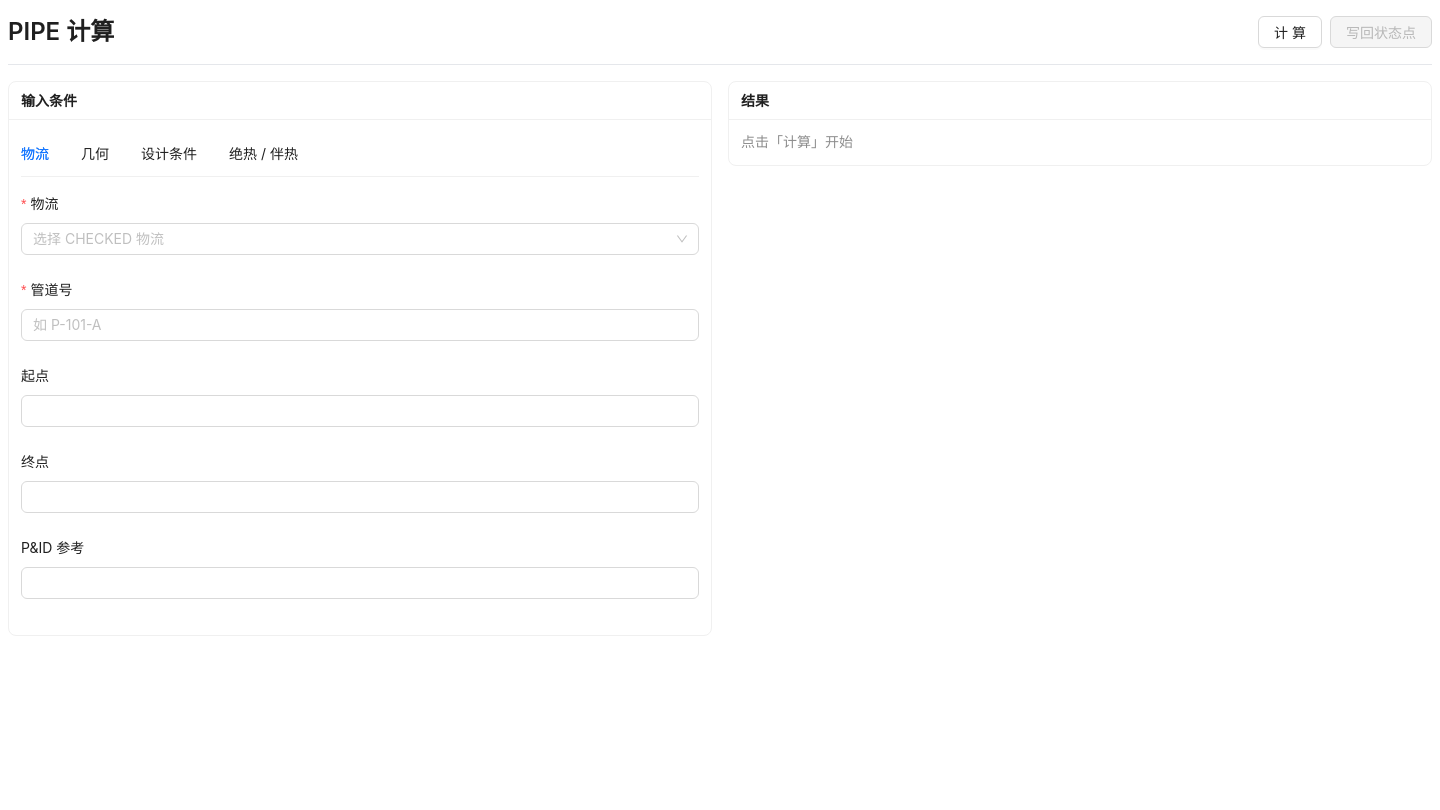
Test: PipeComputePage — 设计条件 Tab › 切到「设计条件」：压力 + 温度 + 腐蚀 + 等级
Click the tab with test id "pipe-input-tab-design". click: (169, 154)
box: x1=141 y1=143 x2=197 y2=165
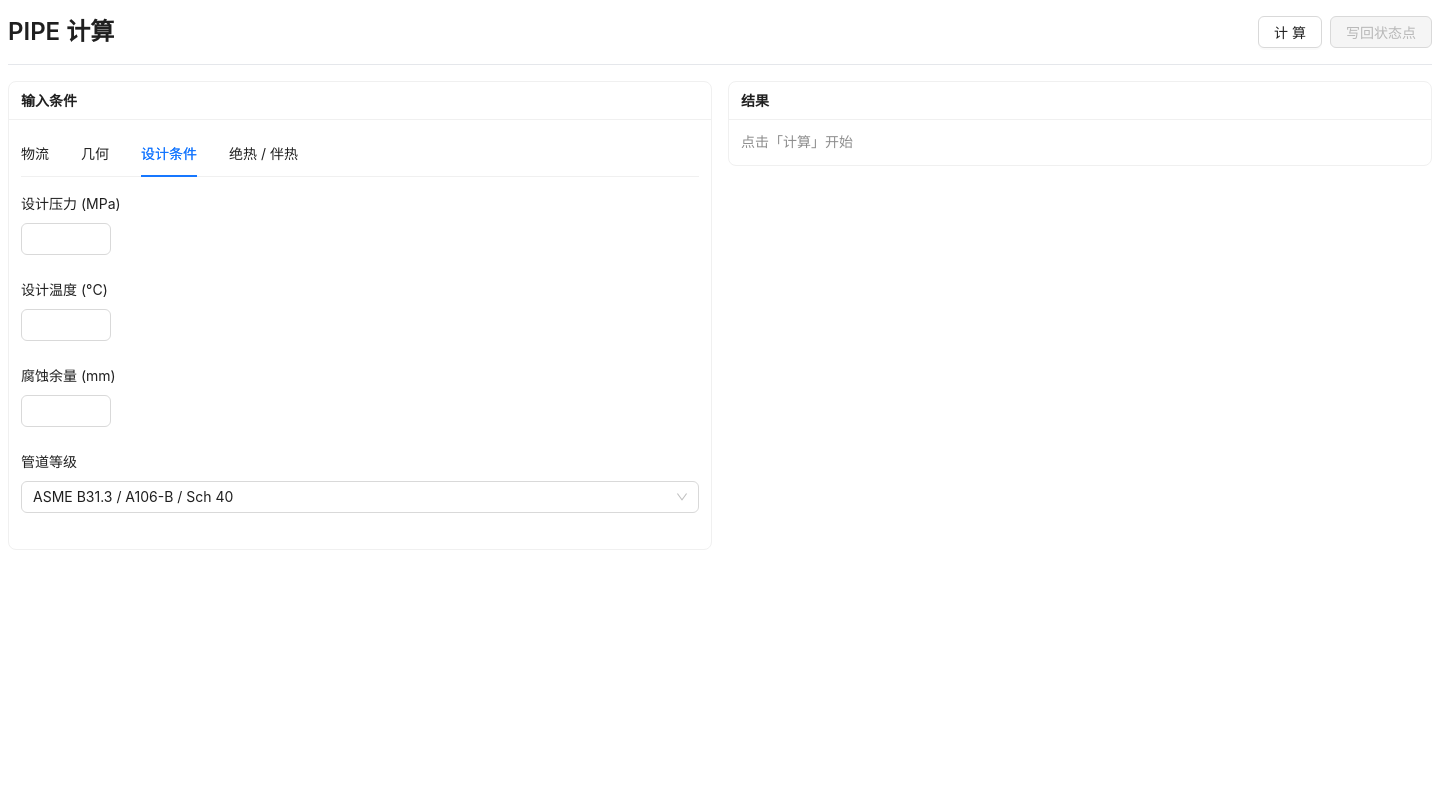
Now the number field with test id "pipe-design-p" is shown, box x1=22 y1=224 x2=110 y2=254
Now the number field with test id "pipe-design-t" is shown, box x1=22 y1=310 x2=110 y2=340
Now the number field with test id "pipe-corrosion" is shown, box x1=22 y1=396 x2=110 y2=426
